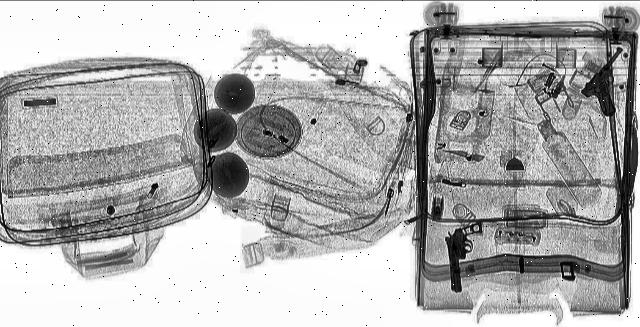Gun: (576, 48, 640, 108), (446, 224, 486, 292)
